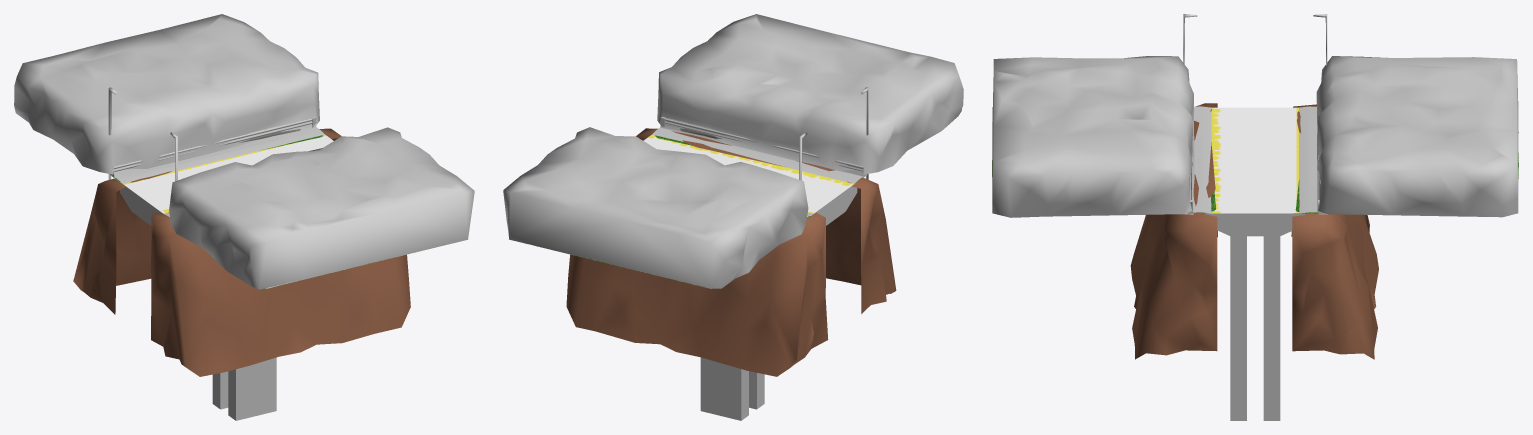
The model's file is RoadStraight_LOD2.fbx.
The picture shows the model from 3 angles, left to right: view 1: azimuth 30°, elevation 25°; view 2: azimuth 150°, elevation 25°; view 3: azimuth 270°, elevation 25°; orthographic projection. The views are drawn at different scales.
Visible parts, largest first — view 1: MountainRight, MountainLeft, CliffRight, CliffLeft, Road, Road Mask, PianoLeft, RailGuardLeft; view 2: MountainRight, MountainLeft, CliffLeft, CliffRight, Road, Road Mask, PianoRight, RailGuardRight; view 3: MountainRight, MountainLeft, CliffRight, CliffLeft, Road Mask, Road, PianoLeft, PianoRight.
Boxes of the visible parts, x1=… form: MountainRight: x1=169, y1=127, x2=474, y2=289; MountainLeft: x1=14, y1=14, x2=319, y2=177; CliffRight: x1=151, y1=212, x2=410, y2=376; CliffLeft: x1=73, y1=128, x2=341, y2=314; Road: x1=120, y1=182, x2=276, y2=420; Road Mask: x1=123, y1=134, x2=333, y2=213; PianoLeft: x1=115, y1=127, x2=324, y2=183; RailGuardLeft: x1=113, y1=118, x2=316, y2=171; MountainRight: x1=657, y1=14, x2=963, y2=177; MountainLeft: x1=503, y1=127, x2=808, y2=288; CliffLeft: x1=566, y1=212, x2=828, y2=376; CliffRight: x1=636, y1=128, x2=896, y2=313; Road: x1=700, y1=185, x2=857, y2=420; Road Mask: x1=643, y1=134, x2=853, y2=213; PianoRight: x1=652, y1=127, x2=862, y2=183; RailGuardRight: x1=664, y1=118, x2=863, y2=171; MountainRight: x1=992, y1=56, x2=1195, y2=217; MountainLeft: x1=1316, y1=56, x2=1518, y2=217; CliffRight: x1=1130, y1=103, x2=1217, y2=359; CliffLeft: x1=1291, y1=104, x2=1378, y2=359; Road Mask: x1=1211, y1=107, x2=1298, y2=213; Road: x1=1205, y1=213, x2=1305, y2=420; PianoLeft: x1=1299, y1=106, x2=1317, y2=213; PianoRight: x1=992, y1=106, x2=1212, y2=213.
Size of what is drawn, in the model's own units: 598 by 755 by 1051.
